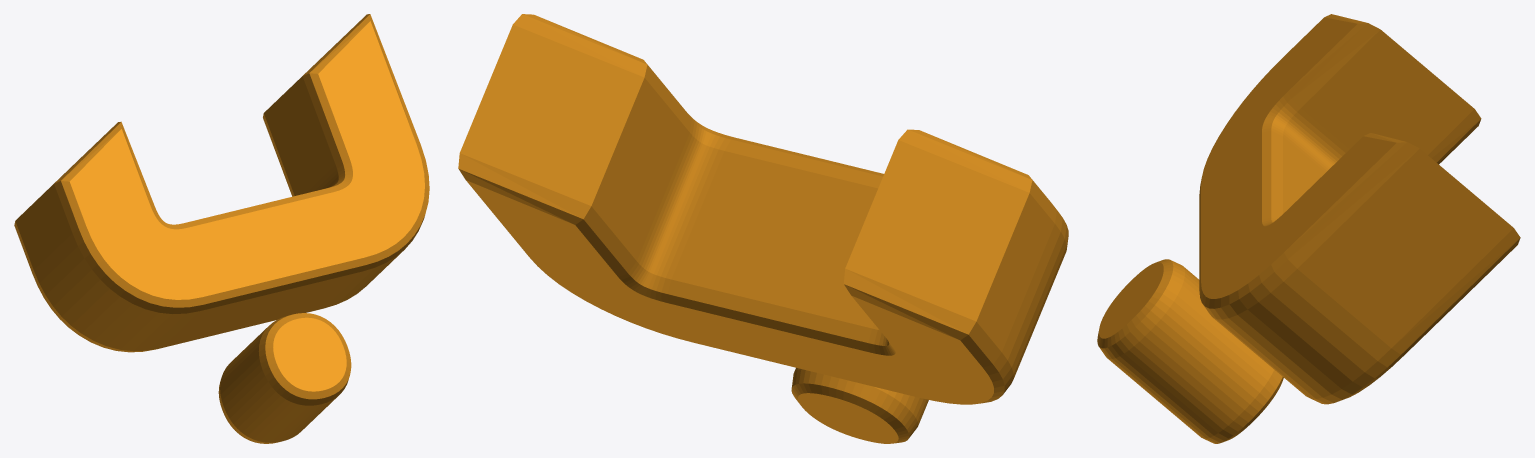
3 renders of one model, left to right at view 1: azimuth 30°, elevation 25°; view 2: azimuth 150°, elevation 25°; view 3: azimuth 270°, elevation 25°, orthographic. The views are drawn at different scales.
Parts seen in each view (by area): view 1: letter; view 2: letter; view 3: letter.
Boxes of the visible parts, <box> form: letter: <box>14,14,429,443</box>; letter: <box>458,14,1068,443</box>; letter: <box>1097,14,1520,443</box>.
Size of the model in its own units: 1.06 by 0.9539 by 0.9212.
